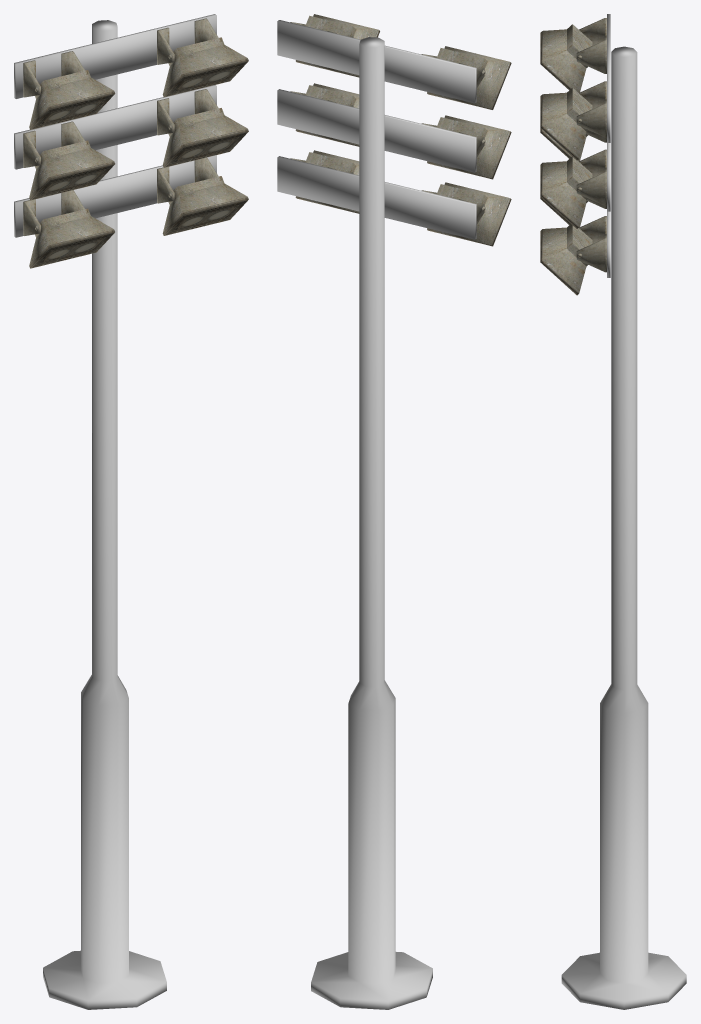
Rendered from lantern_lod.fbx.
The picture shows the model from 3 angles, left to right: view 1: azimuth 30°, elevation 25°; view 2: azimuth 150°, elevation 25°; view 3: azimuth 270°, elevation 25°; orthographic projection. The views are drawn at different scales.
Parts seen in each view (by area): view 1: Mesh; view 2: Mesh; view 3: Mesh.
Part boxes in pixels (left/top/right/bottom): Mesh: left=14, top=14, right=248, bottom=1009; Mesh: left=277, top=14, right=511, bottom=1009; Mesh: left=540, top=14, right=686, bottom=1009.
Size of the model in its own units: 140 by 635 by 90.28.
